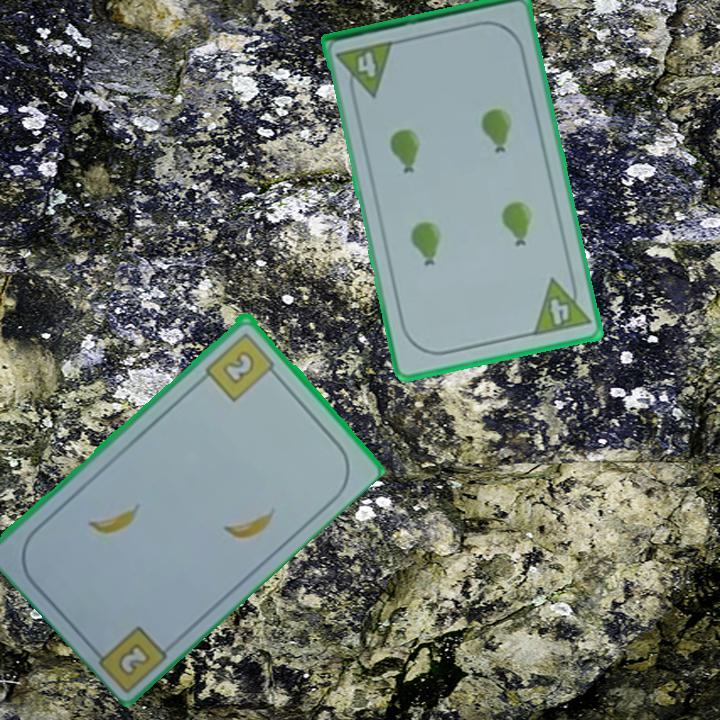2b: (202, 328, 282, 404), (87, 621, 172, 692)
4p: (529, 271, 593, 339), (333, 38, 397, 103)
